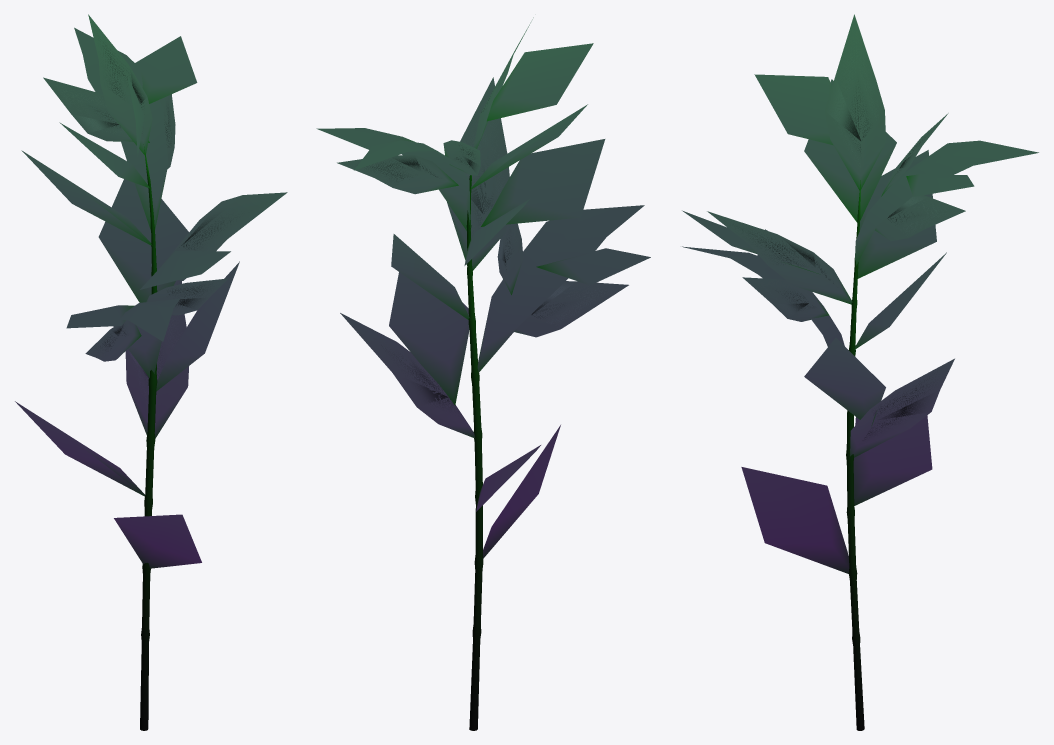
Rendered from TSI_Bamboo_02A.fbx.
3 renders of one model, left to right at view 1: azimuth 30°, elevation 25°; view 2: azimuth 150°, elevation 25°; view 3: azimuth 270°, elevation 25°, orthographic. The views are drawn at different scales.
Visible parts, largest first — view 1: TSI_Bamboo_02A_LOD0; view 2: TSI_Bamboo_02A_LOD0; view 3: TSI_Bamboo_02A_LOD0.
Boxes of the visible parts, <box> form: TSI_Bamboo_02A_LOD0: <box>15,14,287,730</box>; TSI_Bamboo_02A_LOD0: <box>316,17,650,730</box>; TSI_Bamboo_02A_LOD0: <box>682,14,1038,730</box>.
Size of the model in its own units: 74.95 by 232 by 110.
